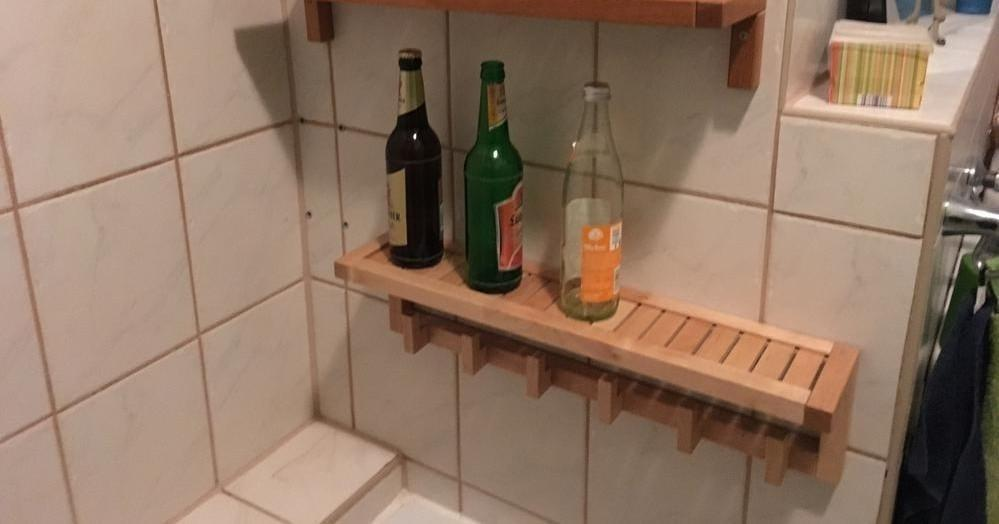bottle-glass: (556, 75, 628, 320), (462, 58, 526, 294), (384, 47, 444, 268)
